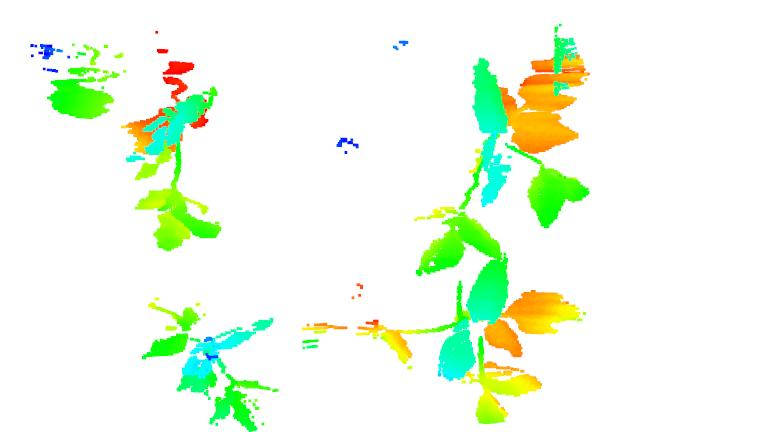mungbean: (411, 30, 595, 281), (362, 260, 591, 425), (118, 57, 228, 253), (139, 296, 278, 432)
